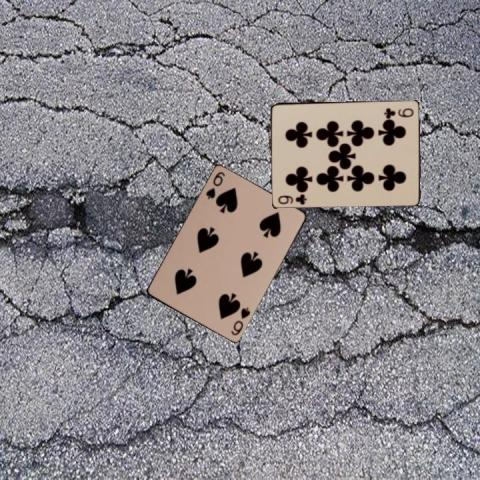6s: (202, 168, 227, 200), (228, 305, 252, 337)
9c: (275, 191, 308, 205), (380, 105, 414, 117)
